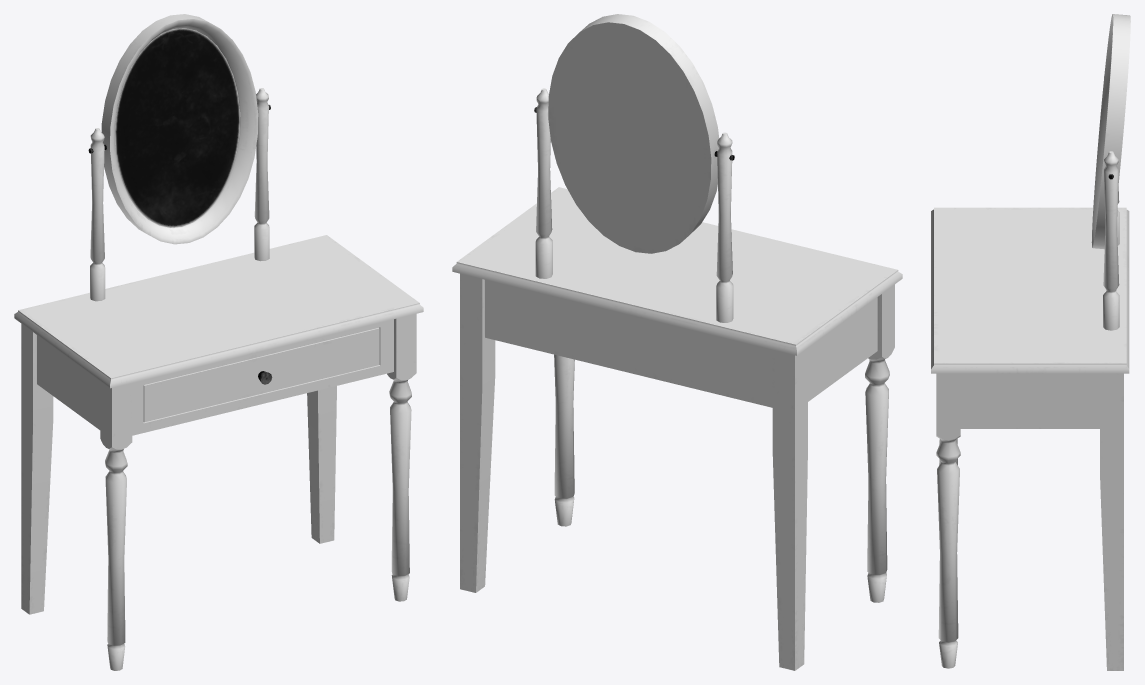
File: ToiletTable.FBX
3 renders of one model, left to right at view 1: azimuth 30°, elevation 25°; view 2: azimuth 150°, elevation 25°; view 3: azimuth 270°, elevation 25°, orthographic. The views are drawn at different scales.
Visible parts, largest first — view 1: ToiletTable, Drawer; view 2: ToiletTable; view 3: ToiletTable.
Boxes of the visible parts, bbox=[...] form: ToiletTable: bbox=[14, 14, 423, 670]; Drawer: bbox=[143, 328, 379, 422]; ToiletTable: bbox=[452, 14, 902, 670]; ToiletTable: bbox=[931, 14, 1130, 670].
Bounding box in the file's own units: 84.99 × 144 × 45.32.
